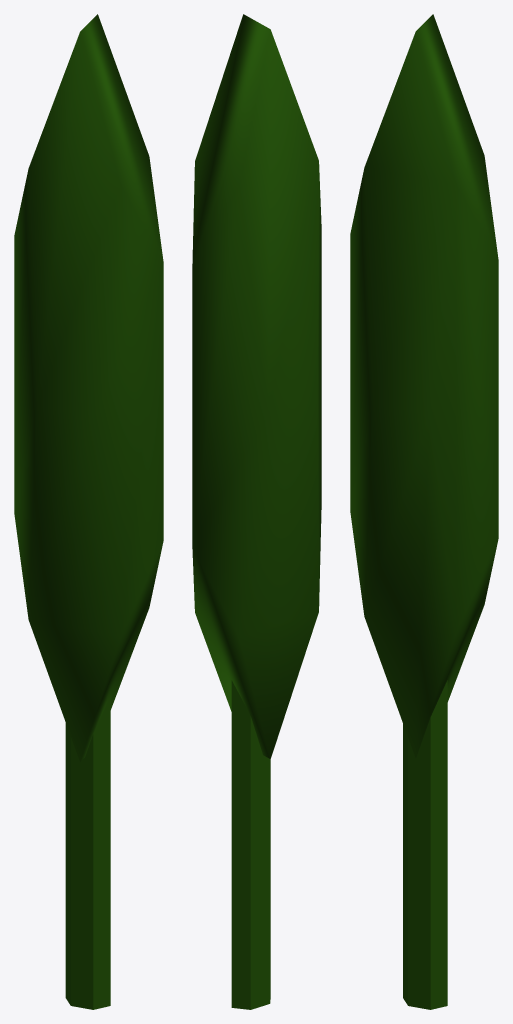
Rendered from Tree_Tall.fbx.
The picture shows the model from 3 angles, left to right: view 1: azimuth 90°, elevation 25°; view 2: azimuth 150°, elevation 25°; view 3: azimuth 270°, elevation 25°; orthographic projection.
Visible parts, largest first — view 1: pCylinder108; view 2: pCylinder108; view 3: pCylinder108.
Part boxes in pixels (x1,y1,x2,y2): pCylinder108: (14,14,163,1009); pCylinder108: (192,14,321,1009); pCylinder108: (350,14,498,1009).
Size of the model in its own units: 1.38 by 11.2 by 1.54.
